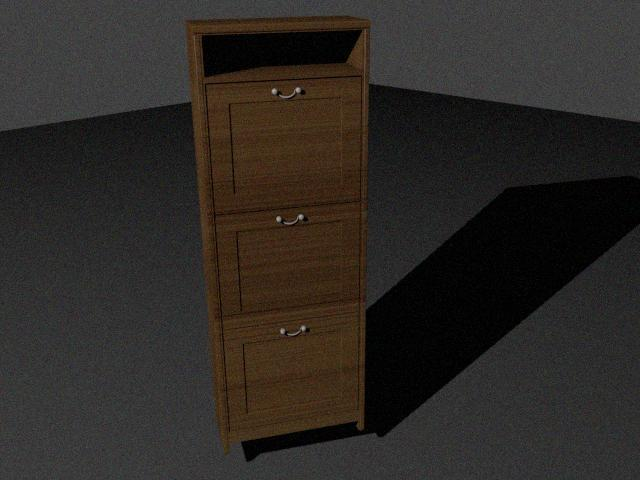cabinet_door: (211, 80, 361, 209), (219, 209, 360, 322), (226, 322, 358, 430)
handle: (266, 211, 311, 230), (272, 321, 312, 342), (267, 84, 307, 102)
